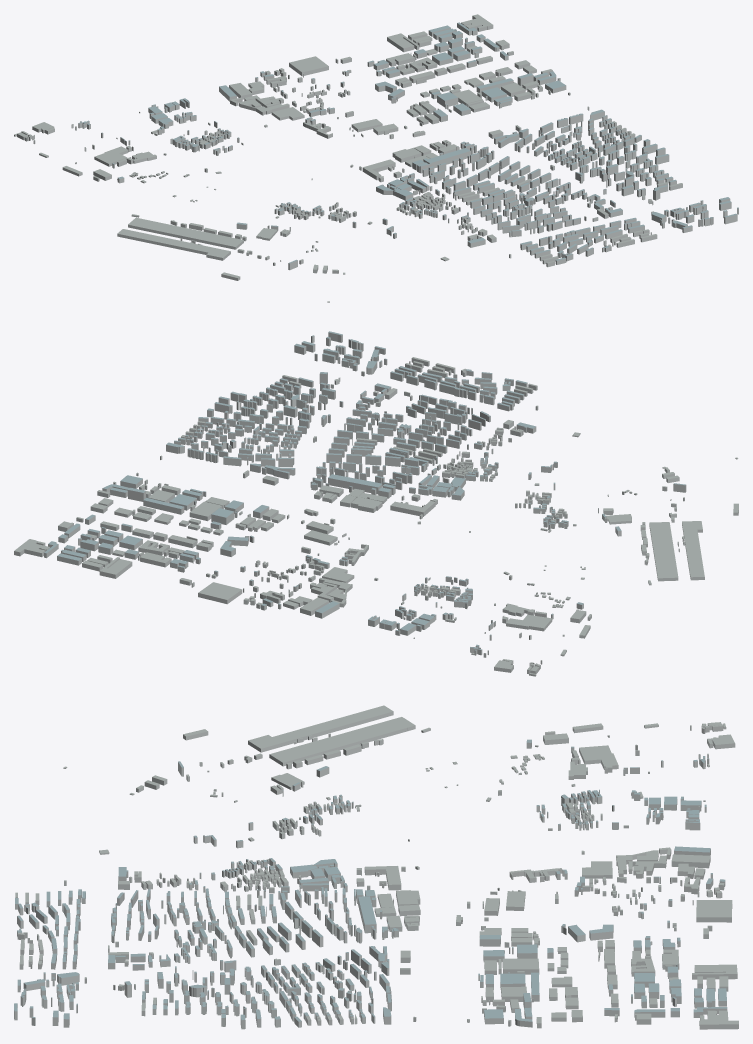
The model's file is far.glb.
3 views of the same model, one above another, from view 1: azimuth 30°, elevation 25°; view 2: azimuth 150°, elevation 25°; view 3: azimuth 270°, elevation 25° (orthographic). The views are drawn at different scales.
Bounding box in the file's own units: 2234 × 41.07 × 2136.
